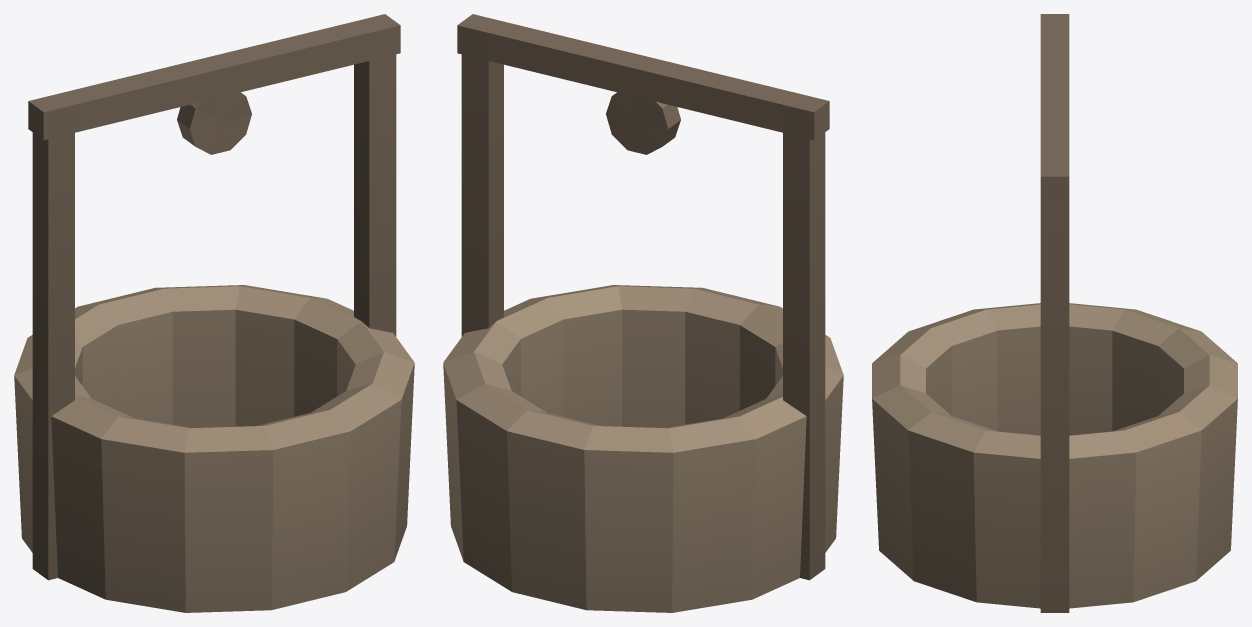
File: adb_well.glb
The picture shows the model from 3 angles, left to right: view 1: azimuth 30°, elevation 25°; view 2: azimuth 150°, elevation 25°; view 3: azimuth 270°, elevation 25°; orthographic projection. The views are drawn at different scales.
Visible parts, largest first — view 1: adb_well; view 2: adb_well; view 3: adb_well.
Part boxes in pixels (x1=…): adb_well: x1=14, y1=14, x2=414, y2=612; adb_well: x1=443, y1=14, x2=843, y2=612; adb_well: x1=872, y1=14, x2=1237, y2=612.
Size of the model in its own units: 1.6 by 2.01 by 1.52.
